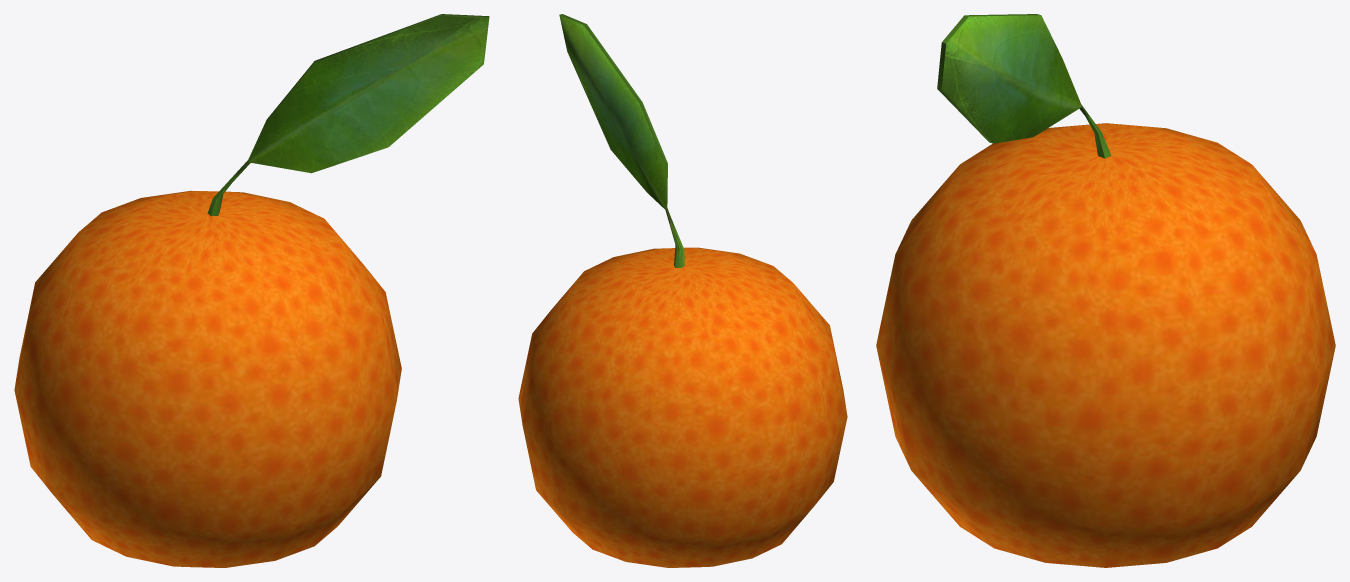
File: orange.FBX
3 renders of one model, left to right at view 1: azimuth 30°, elevation 25°; view 2: azimuth 150°, elevation 25°; view 3: azimuth 270°, elevation 25°, orthographic. The views are drawn at different scales.
Parts seen in each view (by area): view 1: Orange; view 2: Orange; view 3: Orange.
Boxes of the visible parts, x1,y1,x2,y2 form: Orange: (14,14,489,567); Orange: (518,14,847,567); Orange: (876,14,1335,567).
Size of the model in its own units: 62.48 by 82.79 by 55.25.
